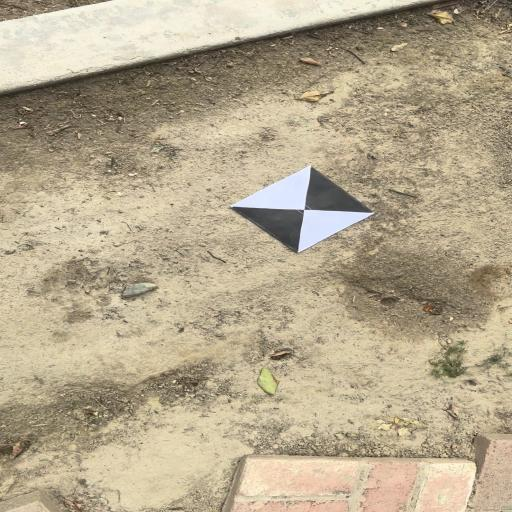target: (235, 167, 375, 253)
